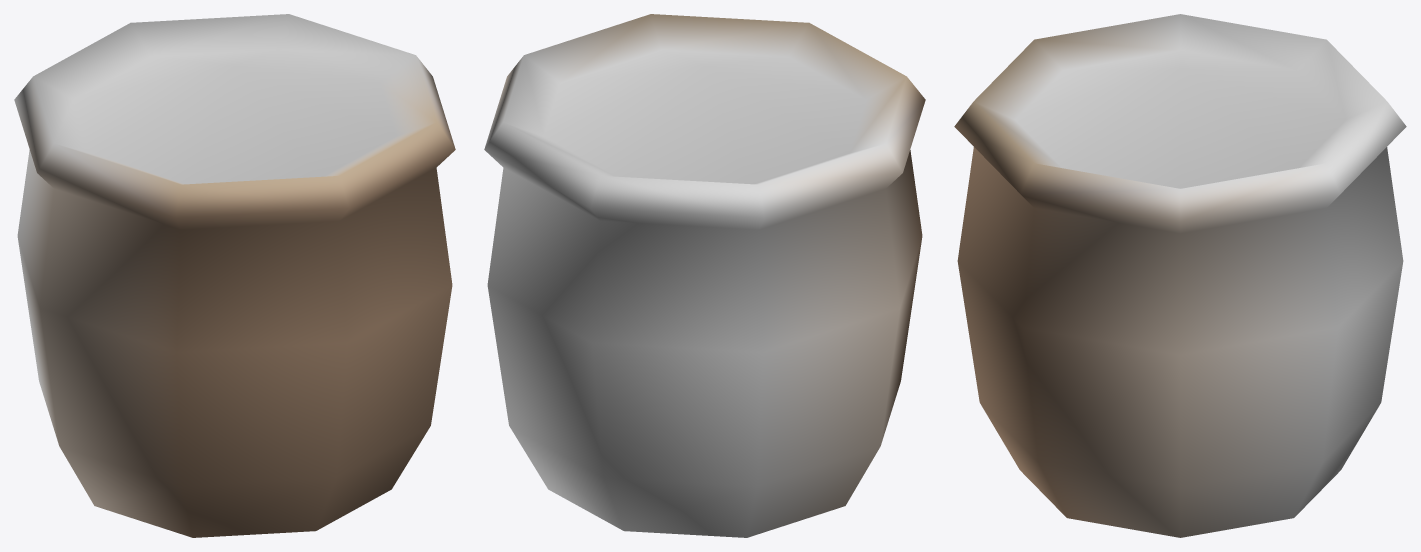
File: Props_C4_2.FBX
3 renders of one model, left to right at view 1: azimuth 30°, elevation 25°; view 2: azimuth 150°, elevation 25°; view 3: azimuth 270°, elevation 25°, orthographic.
Parts seen in each view (by area): view 1: Props_C4_2; view 2: Props_C4_2; view 3: Props_C4_2.
Part boxes in pixels (bbox=[...]): Props_C4_2: bbox=[14, 14, 455, 537]; Props_C4_2: bbox=[484, 14, 925, 537]; Props_C4_2: bbox=[954, 14, 1406, 537].
Bounding box in the file's own units: 84.1 × 82.43 × 84.1.
